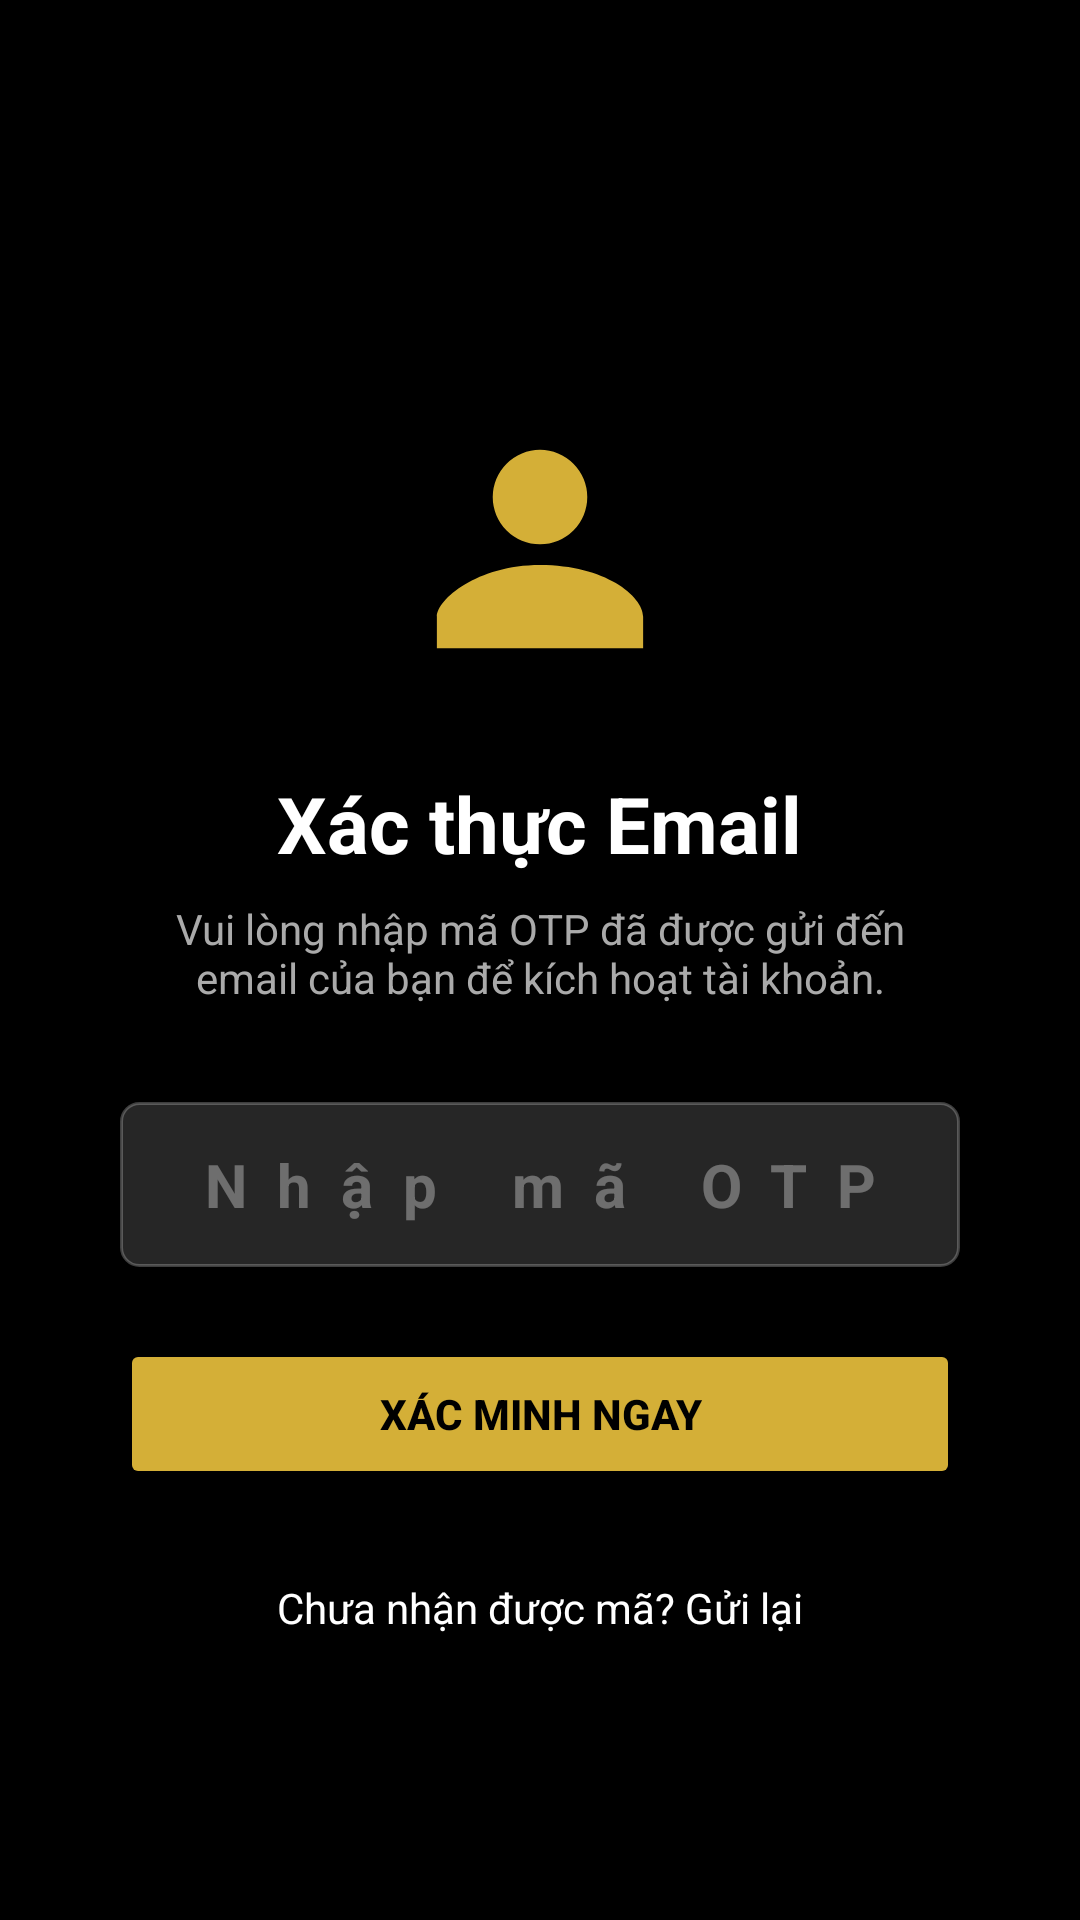

Screen size 1080×1920. Icon name, then its box in pixels as (x1, y1, x2, y2):
account: (436, 449, 644, 649)
